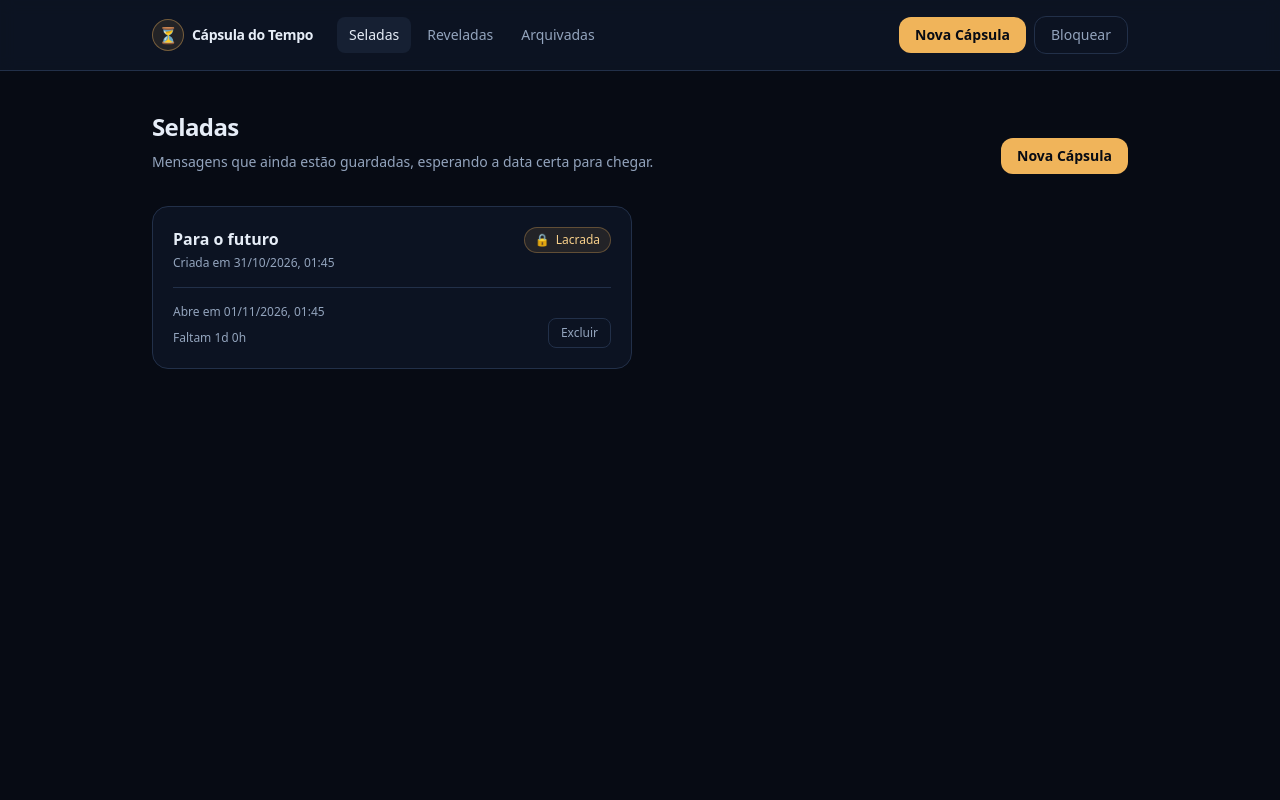
it: SealedHome › prende o foco no diálogo, fecha com Esc e restaura o foco
Click the button "Excluir".
click(579, 333)  # box 548,318 -> 611,348
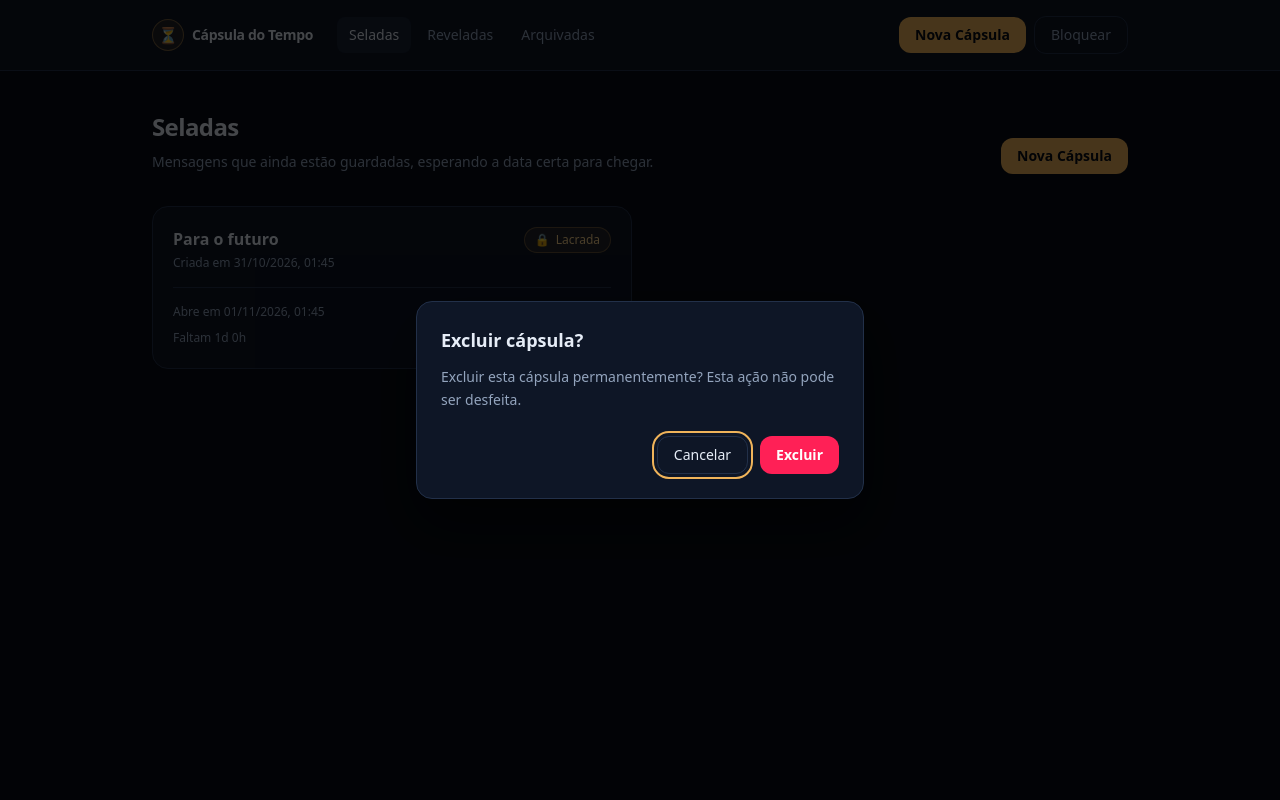
Press Shift+Tab
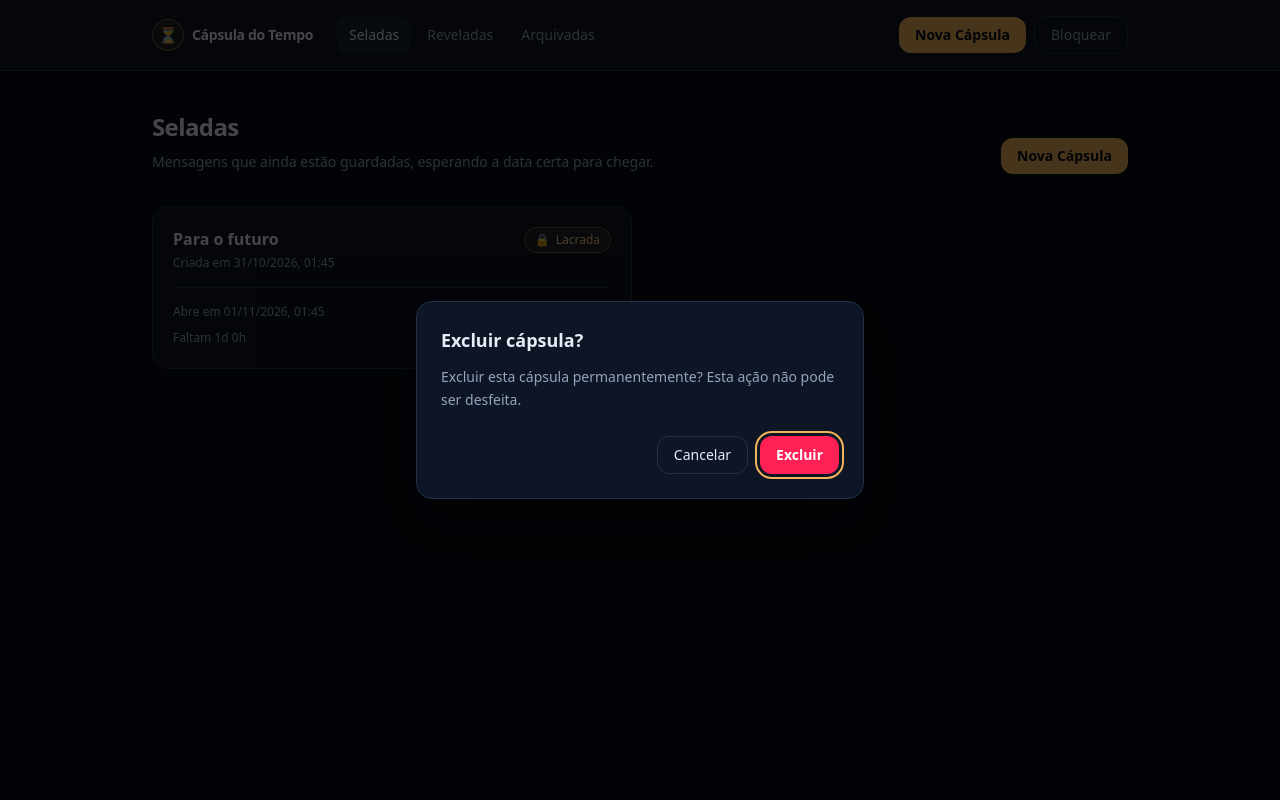
Press Escape
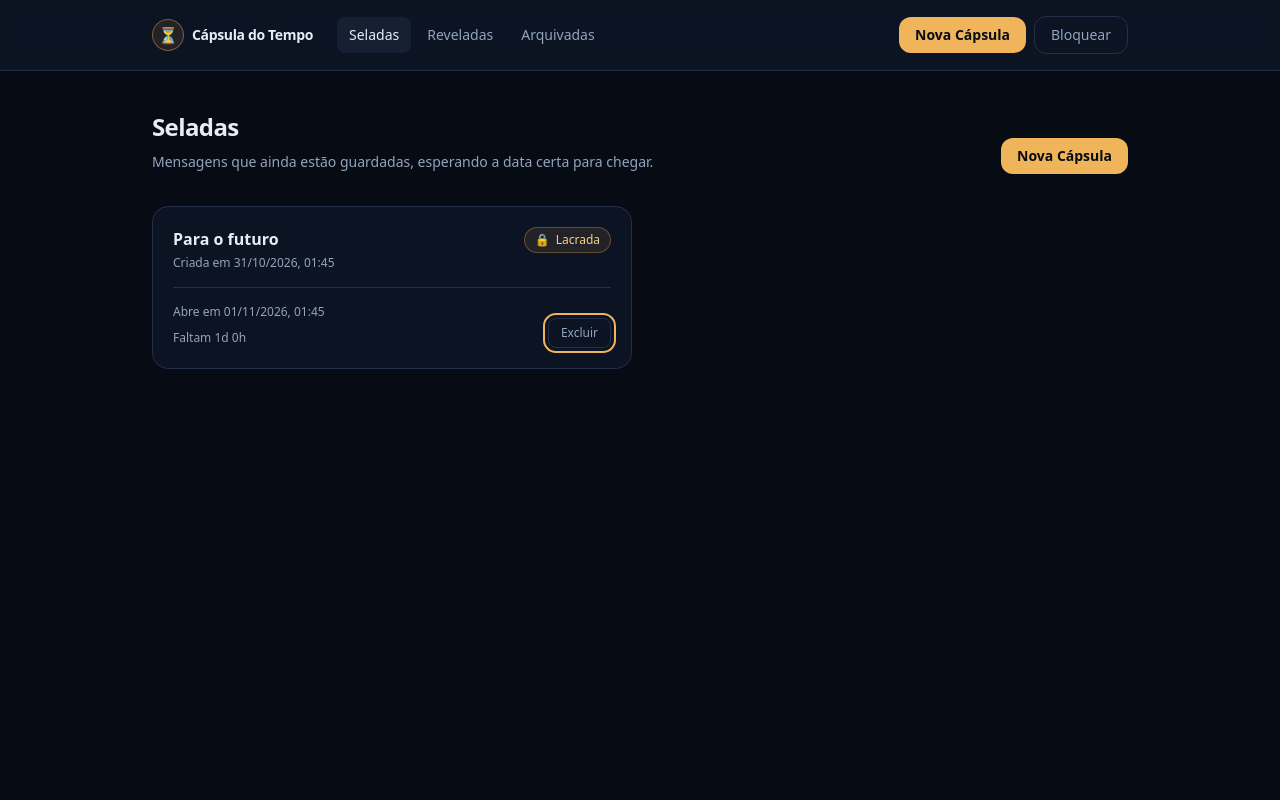
Now the dialog is gone
